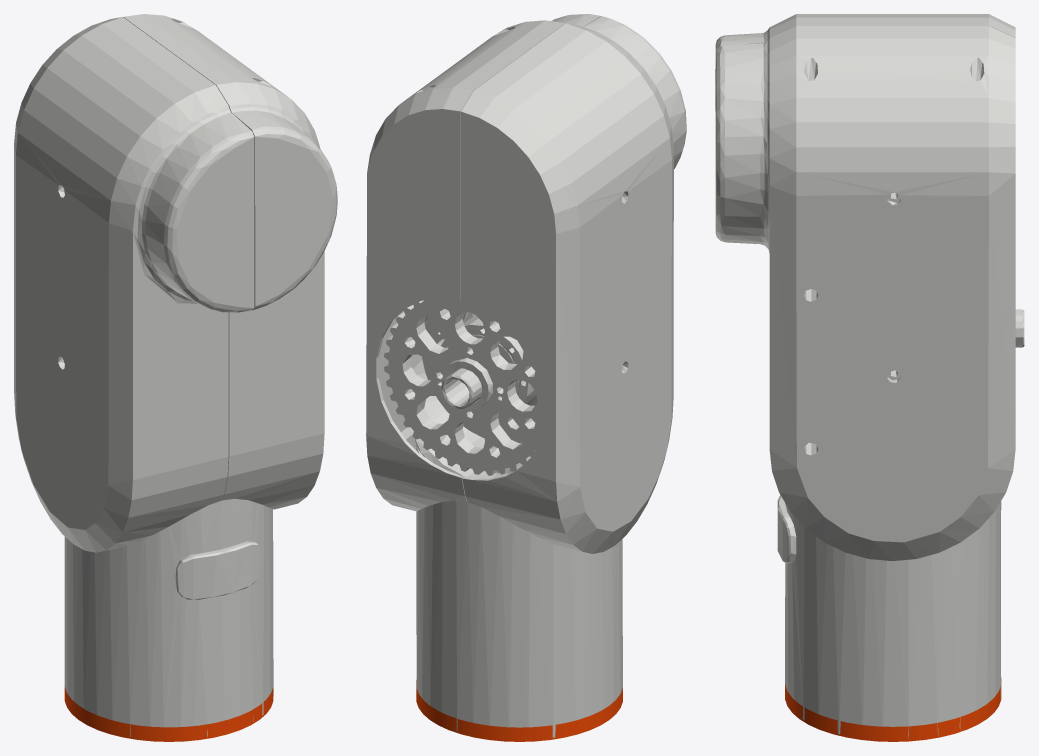
The picture shows the model from 3 angles, left to right: view 1: azimuth 30°, elevation 25°; view 2: azimuth 150°, elevation 25°; view 3: azimuth 270°, elevation 25°; orthographic projection. The views are drawn at different scales.
Parts seen in each view (by area): view 1: MeshBody1, Body1; view 2: MeshBody1, Body1; view 3: MeshBody1, Body1.
Part boxes in pixels (<box>): MeshBody1: <box>14,14,337,736</box>; Body1: <box>64,687,273,741</box>; MeshBody1: <box>366,14,686,737</box>; Body1: <box>416,680,622,741</box>; MeshBody1: <box>715,14,1024,739</box>; Body1: <box>785,677,1001,741</box>.
Size of the model in its own units: 0.077 by 0.2229 by 0.093.
